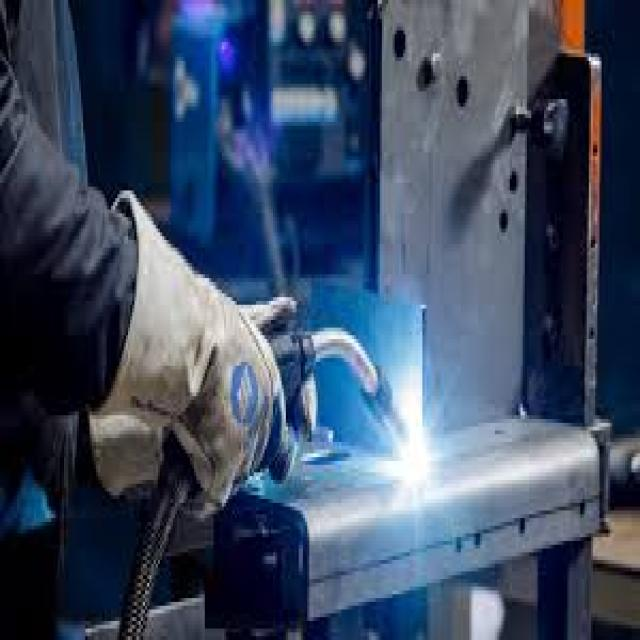welding: (398, 439, 429, 482)
